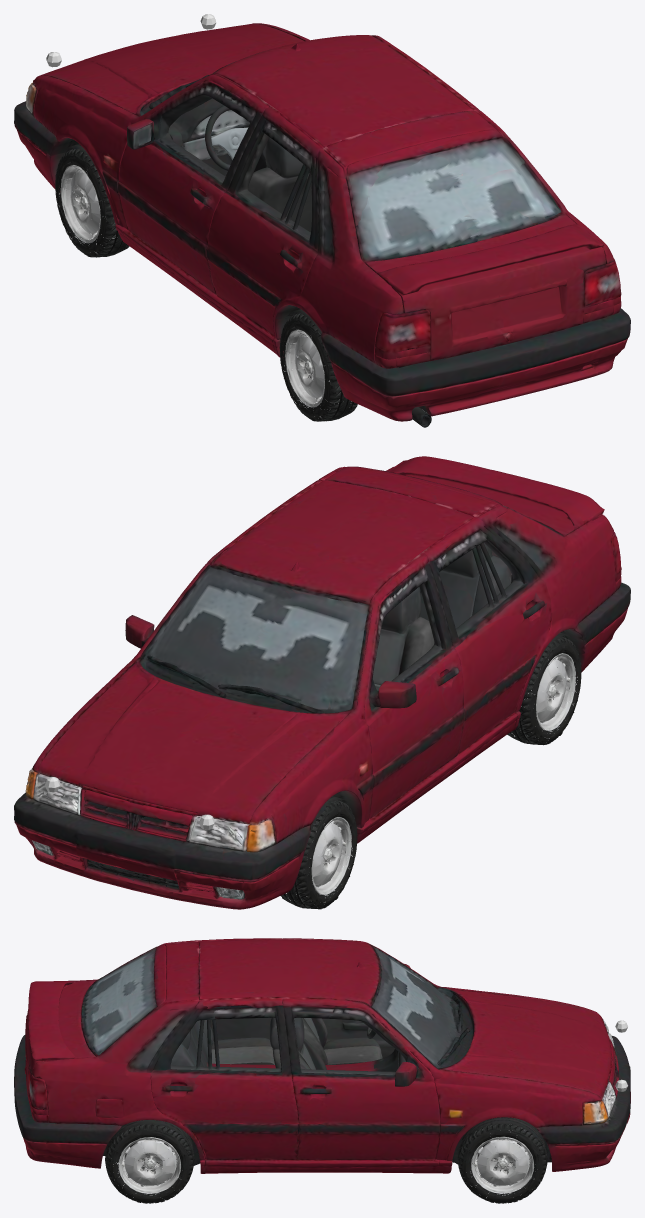
Rendered from fiora-tempo.glb.
The picture shows the model from 3 angles, top to bottom: view 1: azimuth 30°, elevation 25°; view 2: azimuth 150°, elevation 25°; view 3: azimuth 270°, elevation 25°; orthographic projection. The views are drawn at different scales.
Parts seen in each view (by area): view 1: tripo_node_4da11f67-58f6-43df-a3bd-e6ab4baa19b8, WHL0_H, WHL2_H; view 2: tripo_node_4da11f67-58f6-43df-a3bd-e6ab4baa19b8, WHL0_H, WHL2_H; view 3: tripo_node_4da11f67-58f6-43df-a3bd-e6ab4baa19b8, WHL1_H, WHL3_H.
Part boxes in pixels (<box>): tripo_node_4da11f67-58f6-43df-a3bd-e6ab4baa19b8: <box>14,23,630,427</box>; WHL0_H: <box>55,148,129,257</box>; WHL2_H: <box>279,313,357,421</box>; tripo_node_4da11f67-58f6-43df-a3bd-e6ab4baa19b8: <box>14,456,630,909</box>; WHL0_H: <box>281,800,357,909</box>; WHL2_H: <box>507,636,581,745</box>; tripo_node_4da11f67-58f6-43df-a3bd-e6ab4baa19b8: <box>14,938,630,1173</box>; WHL1_H: <box>457,1123,547,1203</box>; WHL3_H: <box>105,1124,194,1203</box>.
Size of the model in its own units: 1.88 by 1.56 by 4.46.
2 materials, 2 textured.
